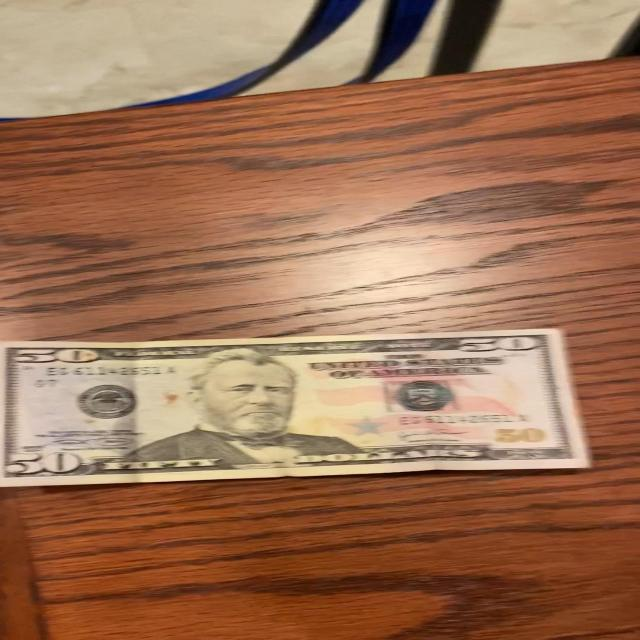50-Front: (0, 326, 610, 492)
